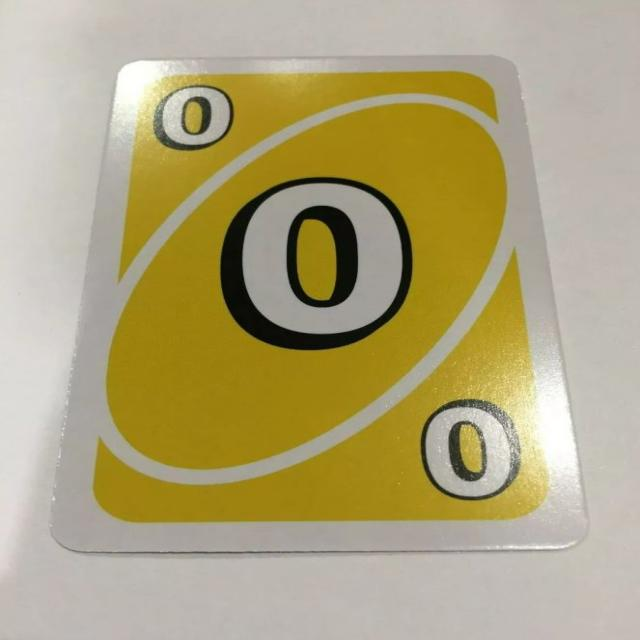Number_0: (153, 78, 233, 156)
Yellow_Card: (89, 65, 555, 532)
